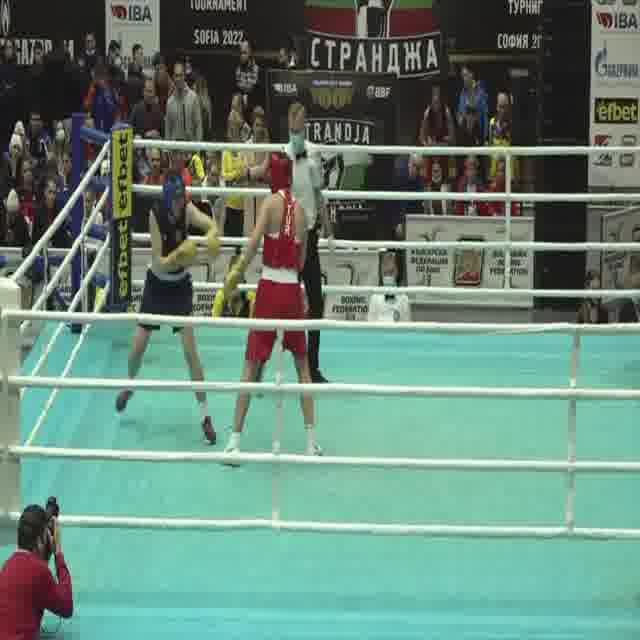blue-player: (114, 168, 223, 446)
red-player: (210, 148, 326, 470)
referee: (251, 101, 331, 398)
